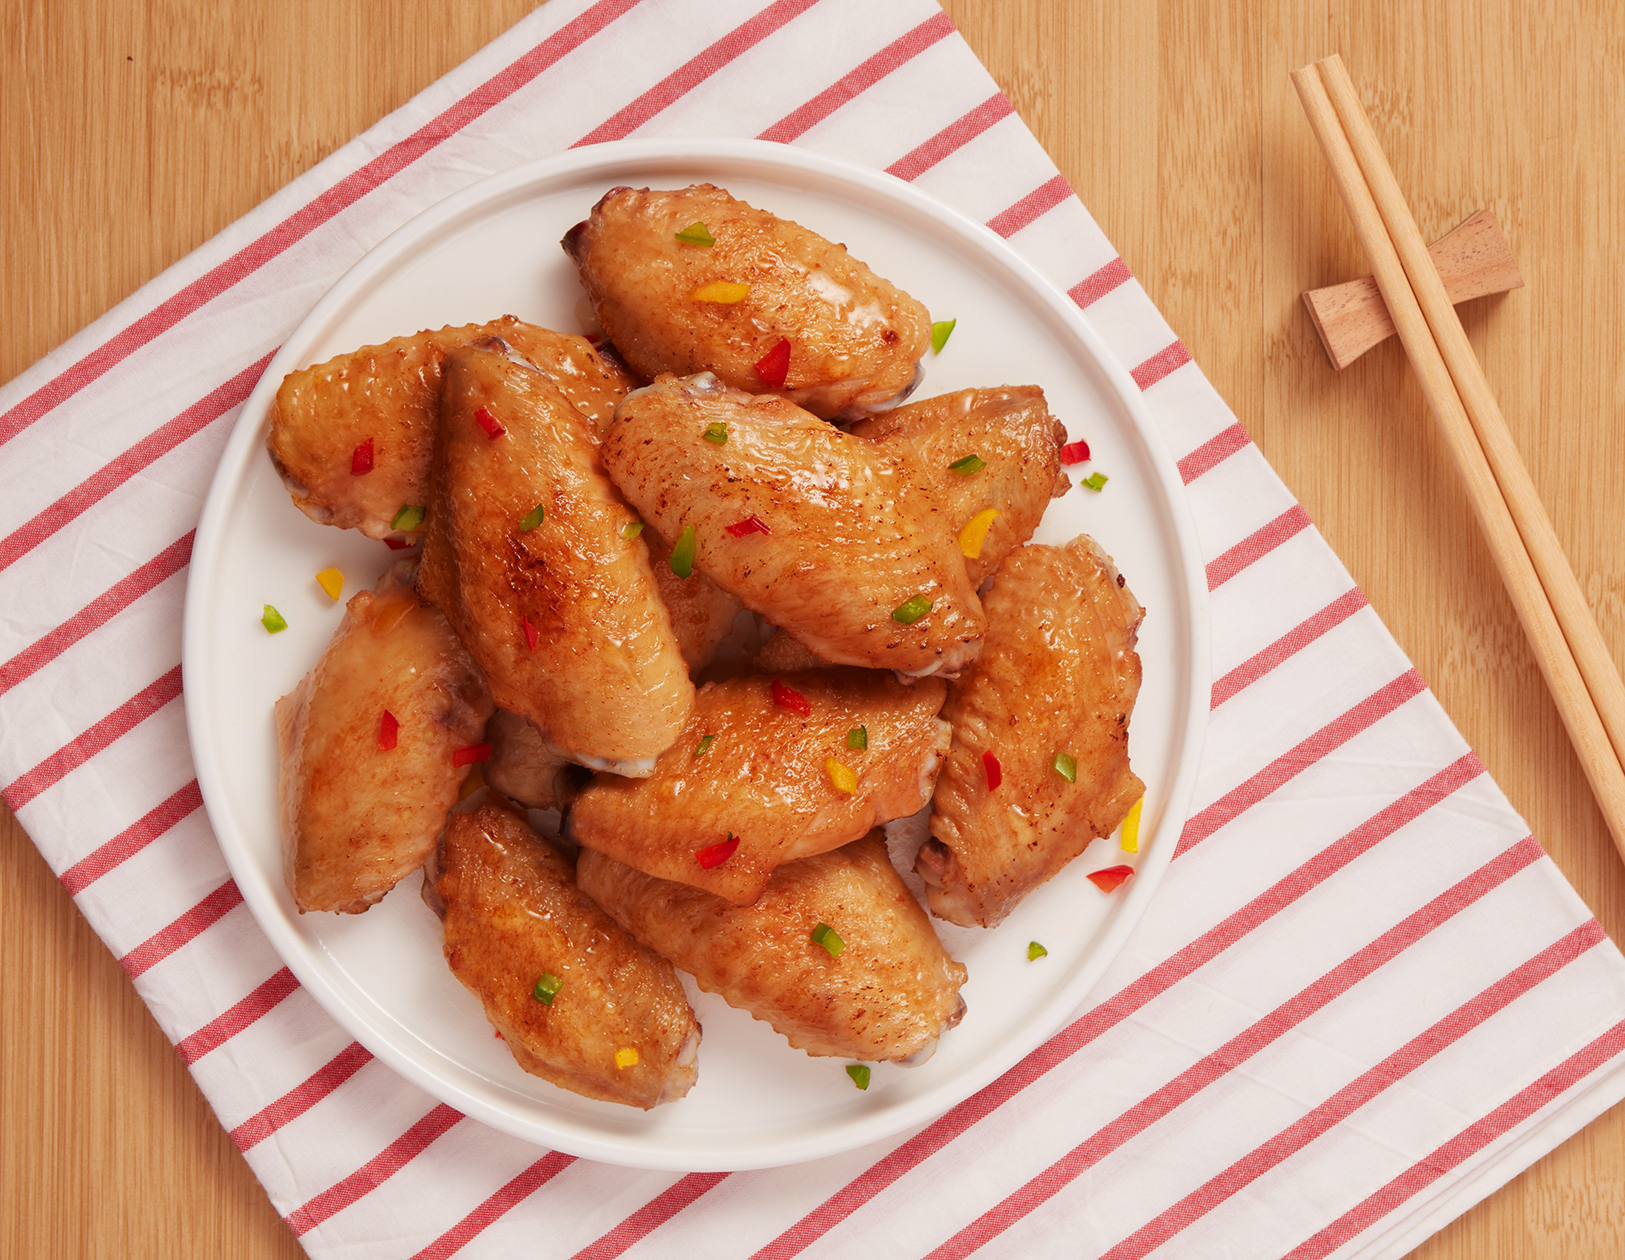chicken-wing: (270, 183, 1148, 1118)
